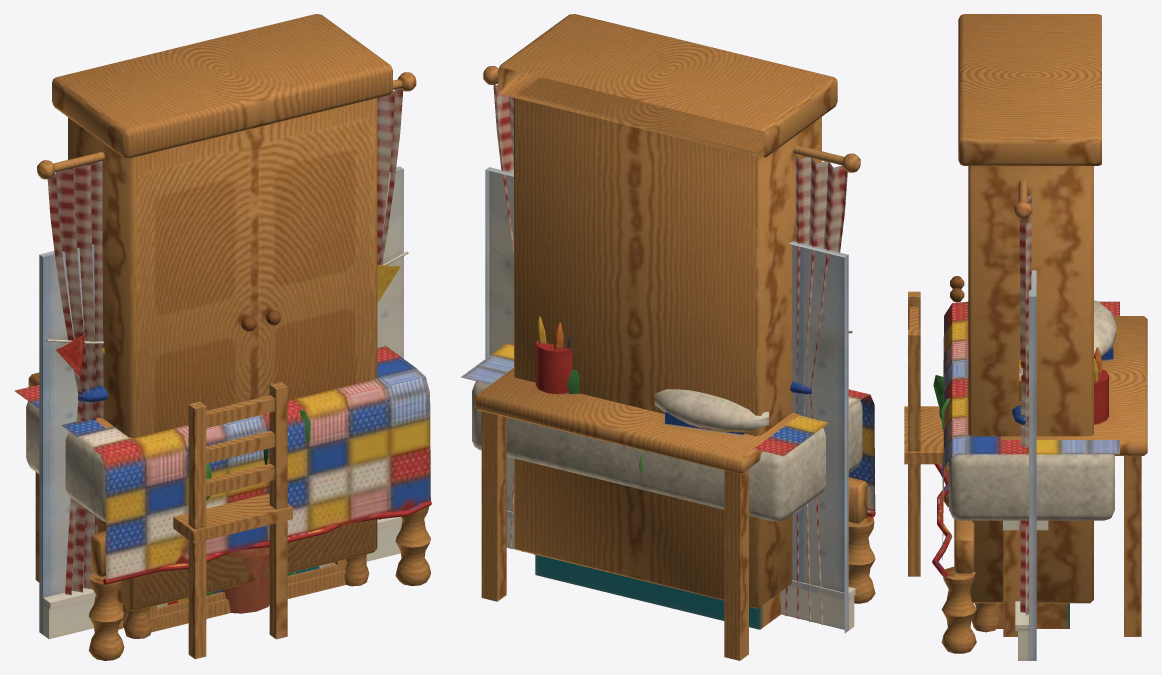
Rendered from props_batch3_medium.glb.
3 renders of one model, left to right at view 1: azimuth 30°, elevation 25°; view 2: azimuth 150°, elevation 25°; view 3: azimuth 270°, elevation 25°, orthographic. The views are drawn at different scales.
Parts seen in each view (by area): view 1: Wardrobe, BedSide, WallSection, WindowCurtains, DeskSet, PlantPot, ToyShelf, Bookcase; view 2: Wardrobe, BedSide, WallSection, DeskSet, WindowCurtains, ToyShelf; view 3: Wardrobe, BedSide, DeskSet, WindowCurtains, WallSection, ToyShelf, PlantPot.
Part boxes in pixels (bbox=[...]): Wardrobe: bbox=[52, 14, 392, 638]; BedSide: bbox=[14, 346, 431, 660]; WallSection: bbox=[39, 166, 408, 638]; WindowCurtains: bbox=[37, 72, 416, 595]; DeskSet: bbox=[28, 372, 366, 659]; PlantPot: bbox=[206, 410, 310, 613]; ToyShelf: bbox=[123, 570, 346, 632]; Bookcase: bbox=[148, 559, 347, 617]; Wardrobe: bbox=[498, 14, 837, 608]; BedSide: bbox=[460, 343, 875, 603]; WallSection: bbox=[485, 167, 855, 633]; DeskSet: bbox=[475, 316, 799, 660]; WindowCurtains: bbox=[483, 66, 860, 624]; ToyShelf: bbox=[535, 554, 780, 629]; Wardrobe: bbox=[950, 14, 1101, 632]; BedSide: bbox=[932, 300, 1119, 653]; DeskSet: bbox=[904, 291, 1147, 636]; WindowCurtains: bbox=[1003, 179, 1048, 615]; WallSection: bbox=[1015, 270, 1036, 660]; ToyShelf: bbox=[994, 603, 1069, 628]; PlantPot: bbox=[933, 375, 950, 430].
Size of what is drawn, in the model's own units: 16.72 by 22 by 9.7.
Materials: 1 (1 with a texture image).
